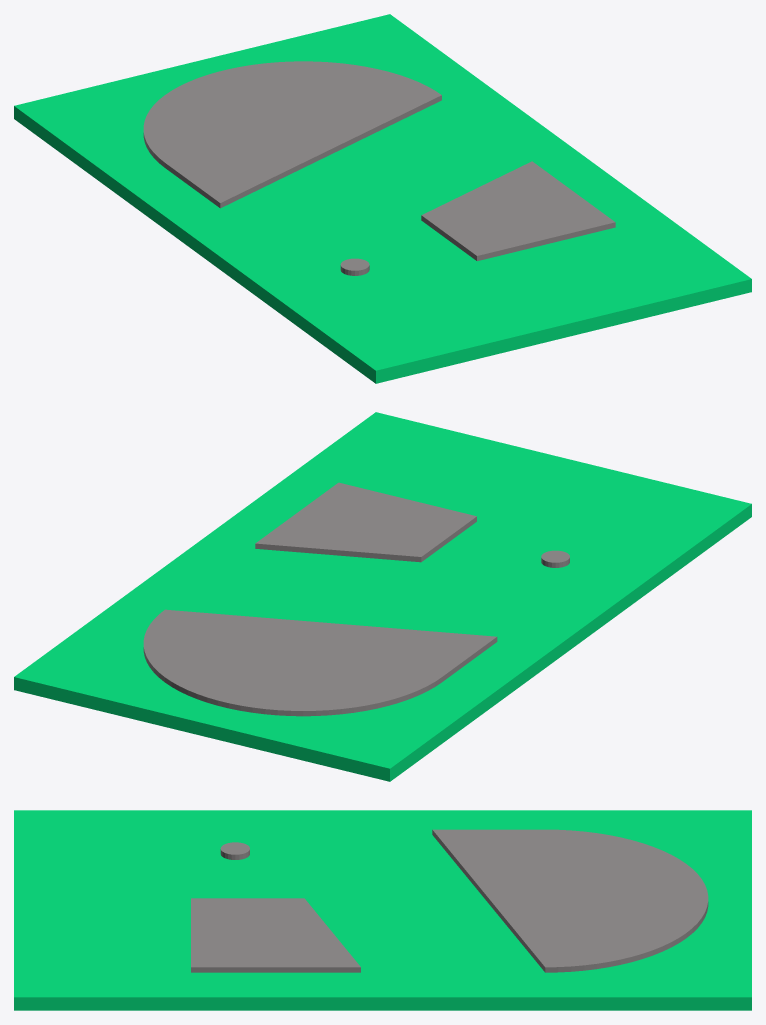
The model's file is four_ws_stage.dae.
3 renders of one model, top to bottom at view 1: azimuth 30°, elevation 25°; view 2: azimuth 150°, elevation 25°; view 3: azimuth 270°, elevation 25°, orthographic.
Visible parts, largest first — view 1: Four Ws Stage; view 2: Four Ws Stage; view 3: Four Ws Stage.
Part boxes in pixels (x1,y1,x2,y2): Four Ws Stage: (14, 14, 751, 383); Four Ws Stage: (14, 412, 751, 781); Four Ws Stage: (14, 810, 751, 1010).
Size of the model in its own units: 3 by 5 by 0.14.
